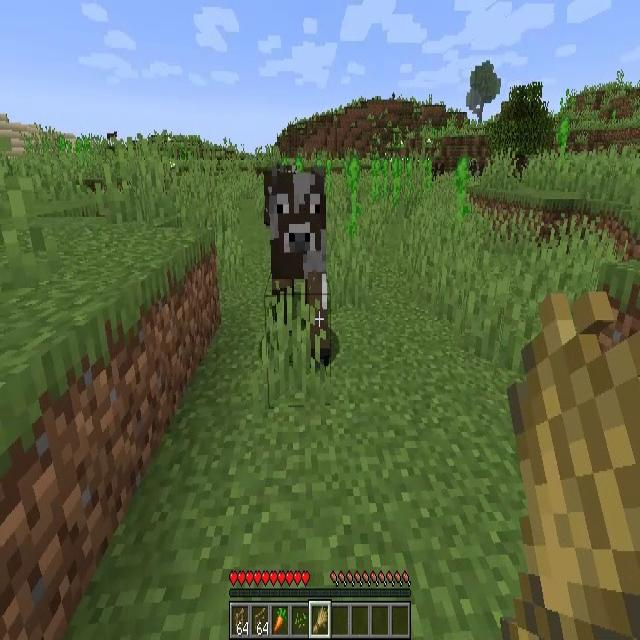cow: (268, 172, 330, 361)
